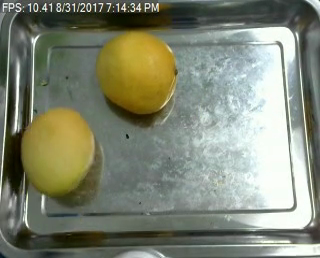Mango: (15, 107, 94, 195), (97, 31, 178, 115)
